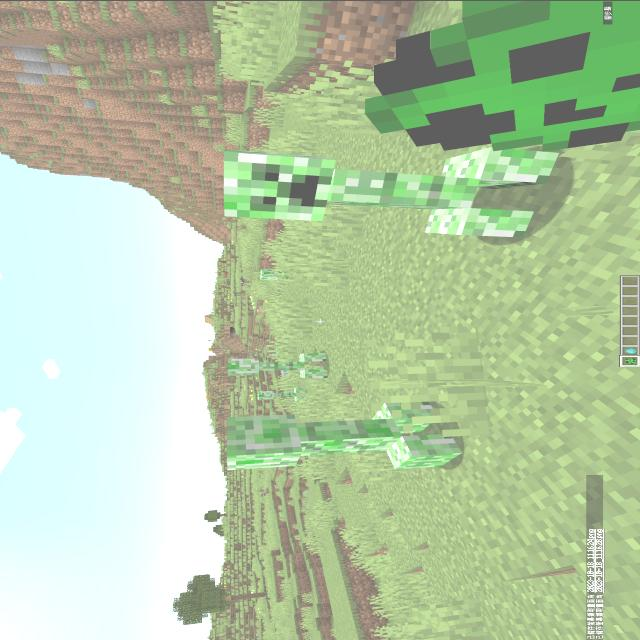Creeper: (202, 142, 580, 245), (204, 388, 472, 480), (222, 344, 336, 383), (244, 383, 320, 404)
